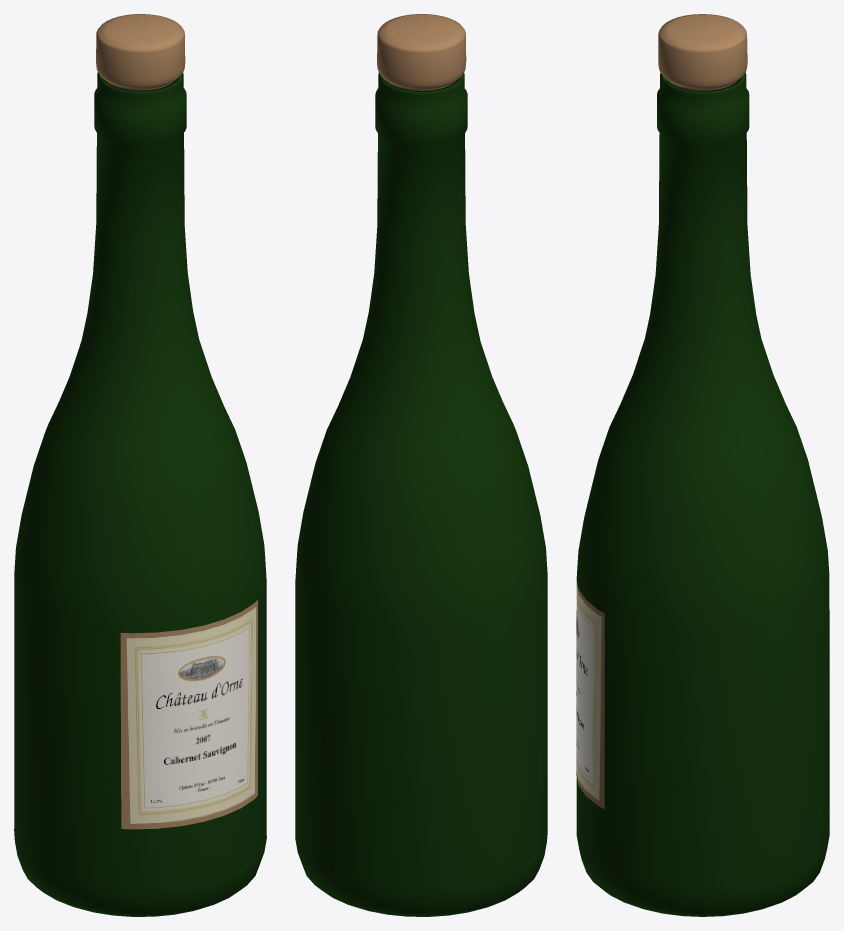
Rendered from Wine_Bottle_Red.dae.
The picture shows the model from 3 angles, left to right: view 1: azimuth 30°, elevation 25°; view 2: azimuth 150°, elevation 25°; view 3: azimuth 270°, elevation 25°; orthographic projection.
Visible parts, largest first — view 1: Wine_Bottle_Red, Wine_Bottle_Red_Label, Wine_Bottle_Red_Cork; view 2: Wine_Bottle_Red, Wine_Bottle_Red_Cork; view 3: Wine_Bottle_Red, Wine_Bottle_Red_Cork, Wine_Bottle_Red_Label.
Boxes of the visible parts, <box> form: Wine_Bottle_Red: <box>14,72,266,916</box>; Wine_Bottle_Red_Label: <box>120,600,257,829</box>; Wine_Bottle_Red_Cork: <box>96,14,185,90</box>; Wine_Bottle_Red: <box>295,72,547,916</box>; Wine_Bottle_Red_Cork: <box>377,14,466,90</box>; Wine_Bottle_Red: <box>576,72,829,916</box>; Wine_Bottle_Red_Cork: <box>658,14,747,90</box>; Wine_Bottle_Red_Label: <box>576,580,604,809</box>.
Size of the model in its own units: 0.0862 by 0.0863 by 0.3175.
Materials: 4 (1 with a texture image).
